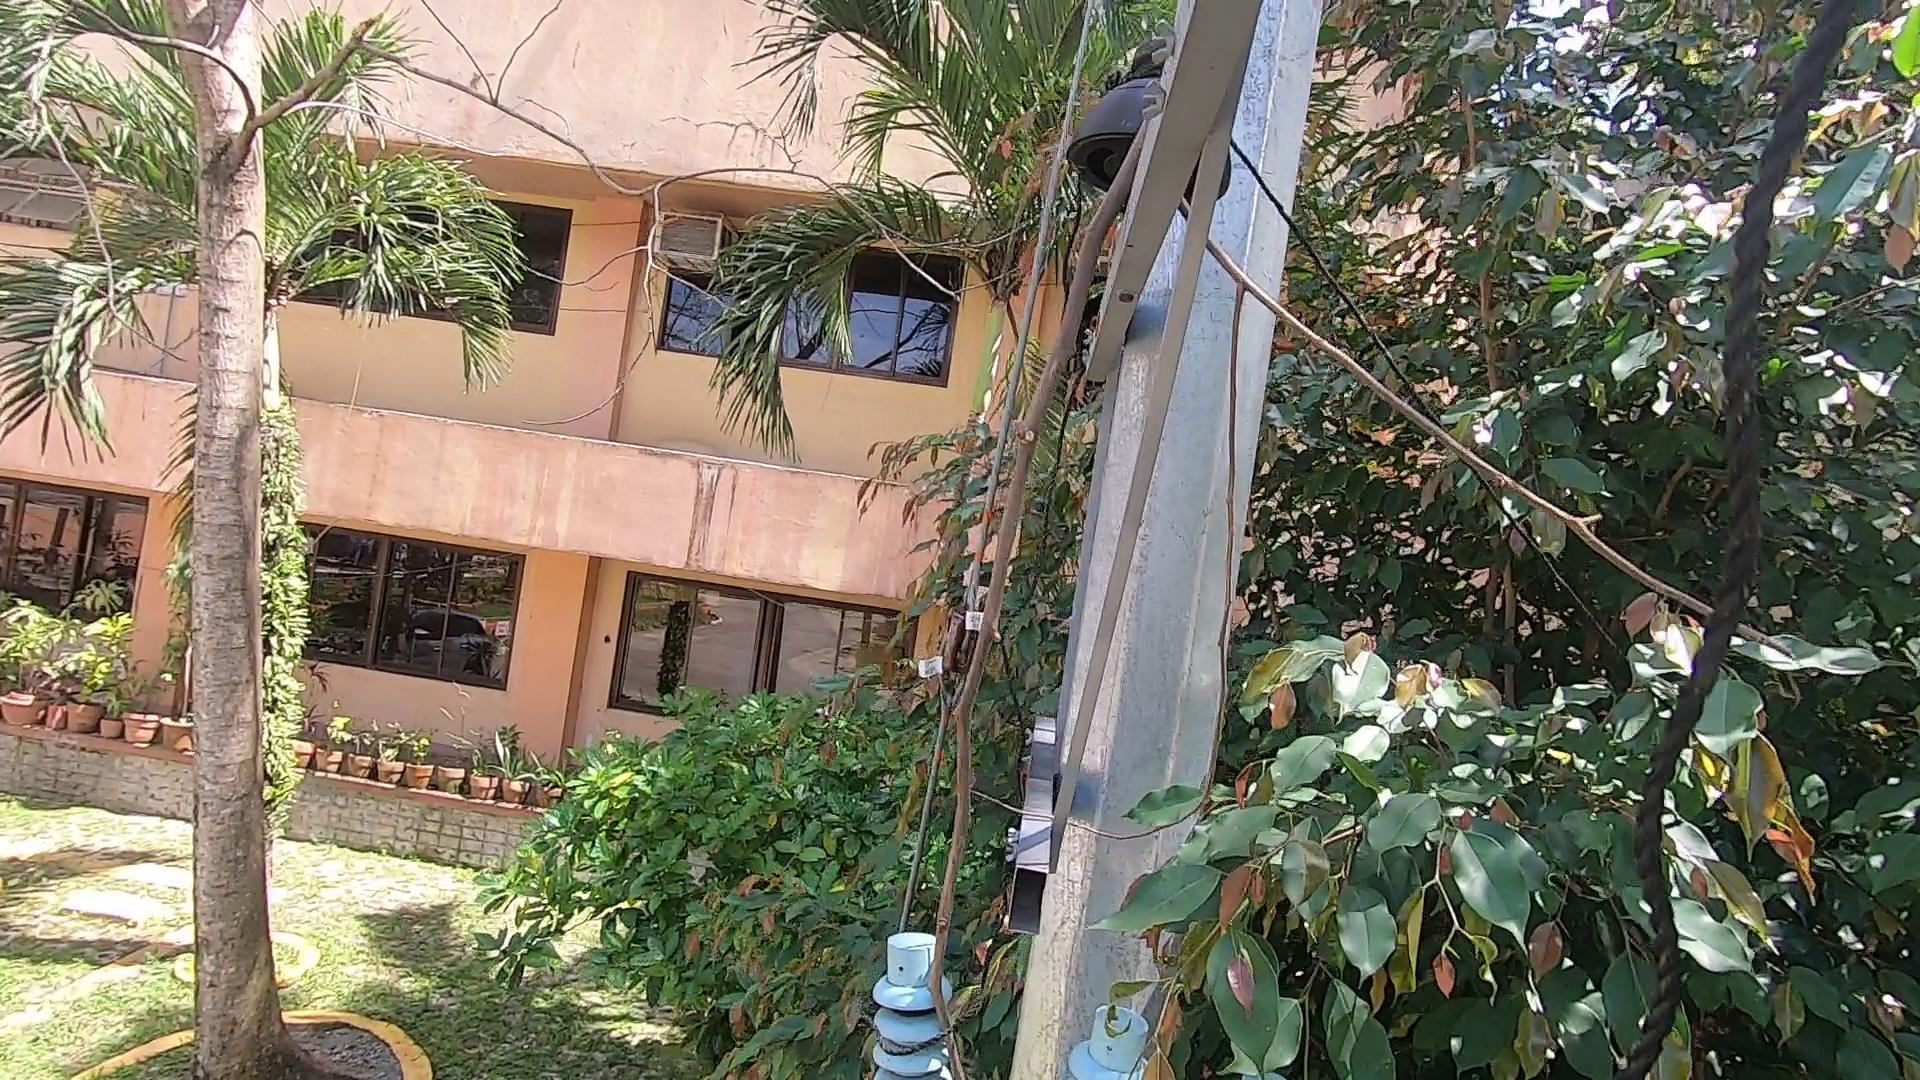branch with leaves: (1092, 819, 1393, 1080)
tree branch: (727, 123, 1269, 1064)
